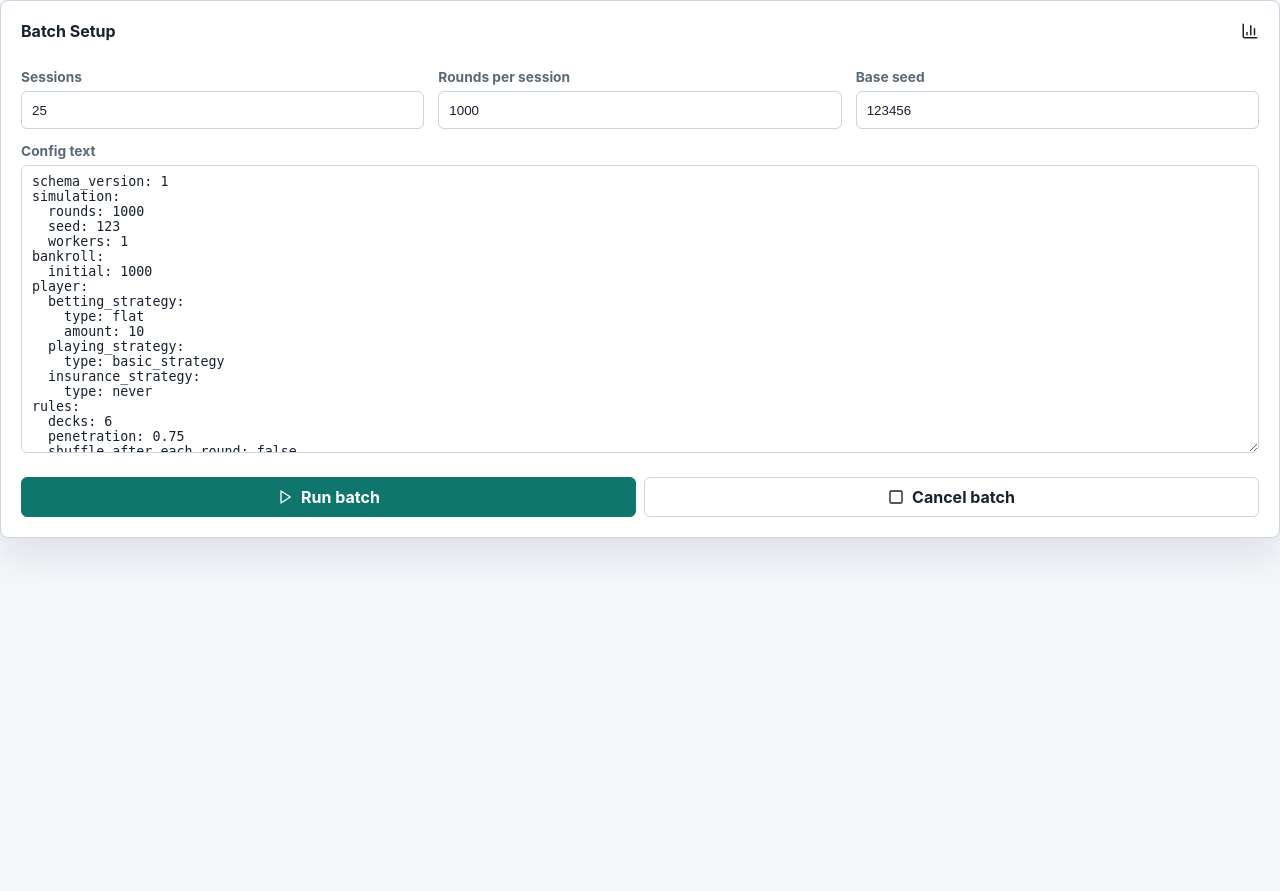
Test case: BatchPage › renders distribution charts and session tables after completion
What coordinates should you click on to do the following:
click the button "Run batch"
I would click on:
 (328, 497)
Its box is [21, 477, 636, 517].
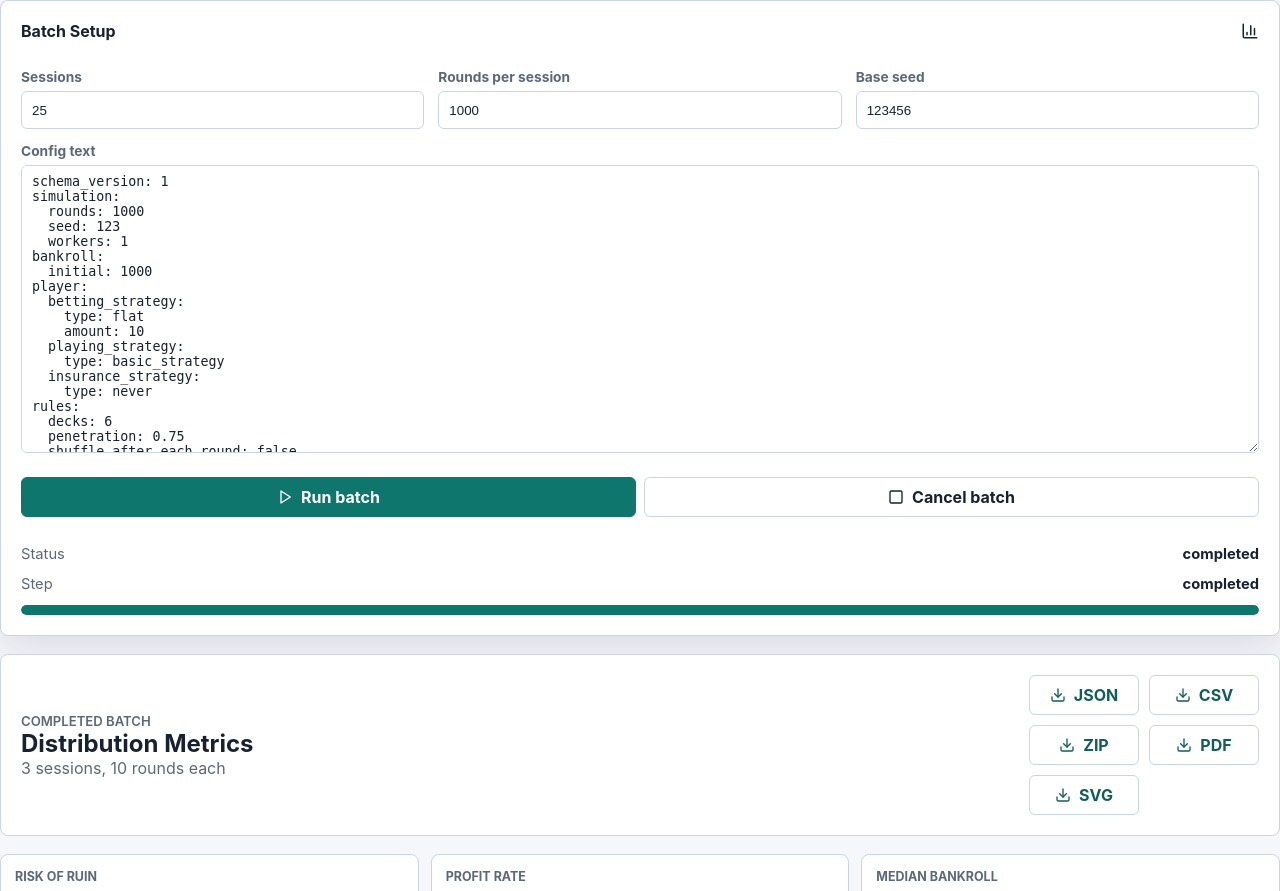
Now the heading "Distribution Metrics" is shown, box [21, 728, 254, 758]
